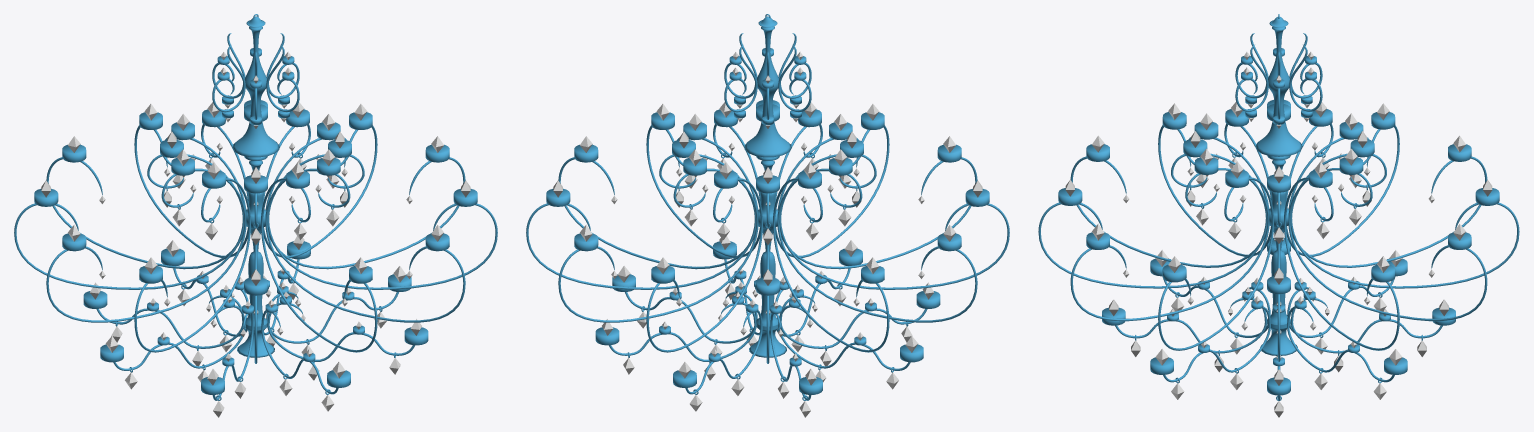
The model's file is Chandelier.fbx.
3 views of the same model, side by side, from view 1: azimuth 30°, elevation 25°; view 2: azimuth 150°, elevation 25°; view 3: azimuth 270°, elevation 25° (orthographic).
Visible parts, largest first — view 1: BezierCurve.001, BezierCurve.003, Cylinder.001, Cylinder, BezierCurve.002, Cylinder.006, BezierCurve, Cube.001, Cube, Cube.004, Cube.009, Cube.006 (+5 smaller); view 2: BezierCurve.001, BezierCurve.003, Cylinder.001, Cylinder, BezierCurve.002, Cylinder.006, BezierCurve, Cube.001, Cube, Cube.004, Cube.009, Cube.006 (+5 smaller); view 3: BezierCurve.001, BezierCurve.003, Cylinder, Cylinder.001, BezierCurve.002, Cylinder.006, BezierCurve, Cube.001, Cube, Cube.004, Cube.006, Cube.009 (+5 smaller).
Part boxes in pixels (<box>): BezierCurve.001: <box>14,124,497,363</box>; BezierCurve.003: <box>232,16,279,357</box>; Cylinder.001: <box>34,100,477,295</box>; Cylinder: <box>160,104,351,193</box>; BezierCurve.002: <box>96,259,414,400</box>; Cylinder.006: <box>83,241,428,394</box>; BezierCurve: <box>212,33,299,119</box>; Cube.001: <box>41,104,470,285</box>; Cube: <box>167,102,344,183</box>; Cube.004: <box>162,158,349,244</box>; Cube.009: <box>90,236,421,385</box>; Cube.006: <box>111,283,400,417</box>; BezierCurve.001: <box>526,124,1009,363</box>; BezierCurve.003: <box>744,16,791,357</box>; Cylinder.001: <box>546,100,989,295</box>; Cylinder: <box>672,104,863,193</box>; BezierCurve.002: <box>609,259,927,400</box>; Cylinder.006: <box>595,241,940,394</box>; BezierCurve: <box>724,33,811,119</box>; Cube.001: <box>553,104,982,285</box>; Cube: <box>679,102,856,183</box>; Cube.004: <box>674,158,861,244</box>; Cube.009: <box>602,236,933,385</box>; Cube.006: <box>623,283,912,417</box>; BezierCurve.001: <box>1038,123,1519,361</box>; BezierCurve.003: <box>1255,17,1302,355</box>; Cylinder: <box>1183,104,1374,192</box>; Cylinder.001: <box>1058,100,1499,294</box>; BezierCurve.002: <box>1115,276,1442,400</box>; Cylinder.006: <box>1102,238,1455,395</box>; BezierCurve: <box>1235,33,1322,119</box>; Cube.001: <box>1065,103,1492,284</box>; Cube: <box>1190,101,1367,182</box>; Cube.004: <box>1186,157,1371,243</box>; Cube.006: <box>1131,297,1426,417</box>; Cube.009: <box>1109,238,1448,385</box>.
Bounding box in the file's own units: 2015 × 1656 × 2015.
